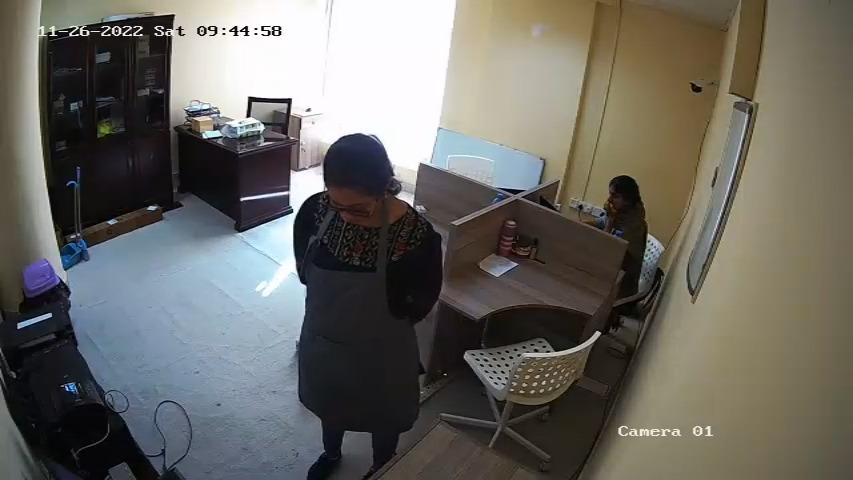apron: (300, 218, 403, 406)
